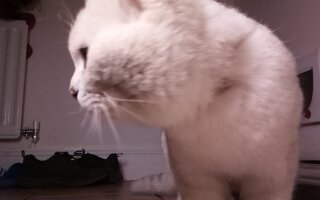bad: (66, 1, 303, 200)
